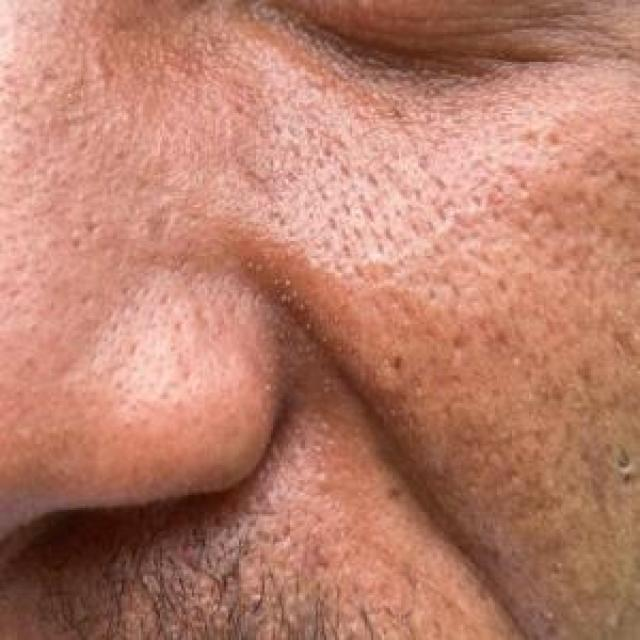Oily-Skin: (200, 22, 632, 277)
